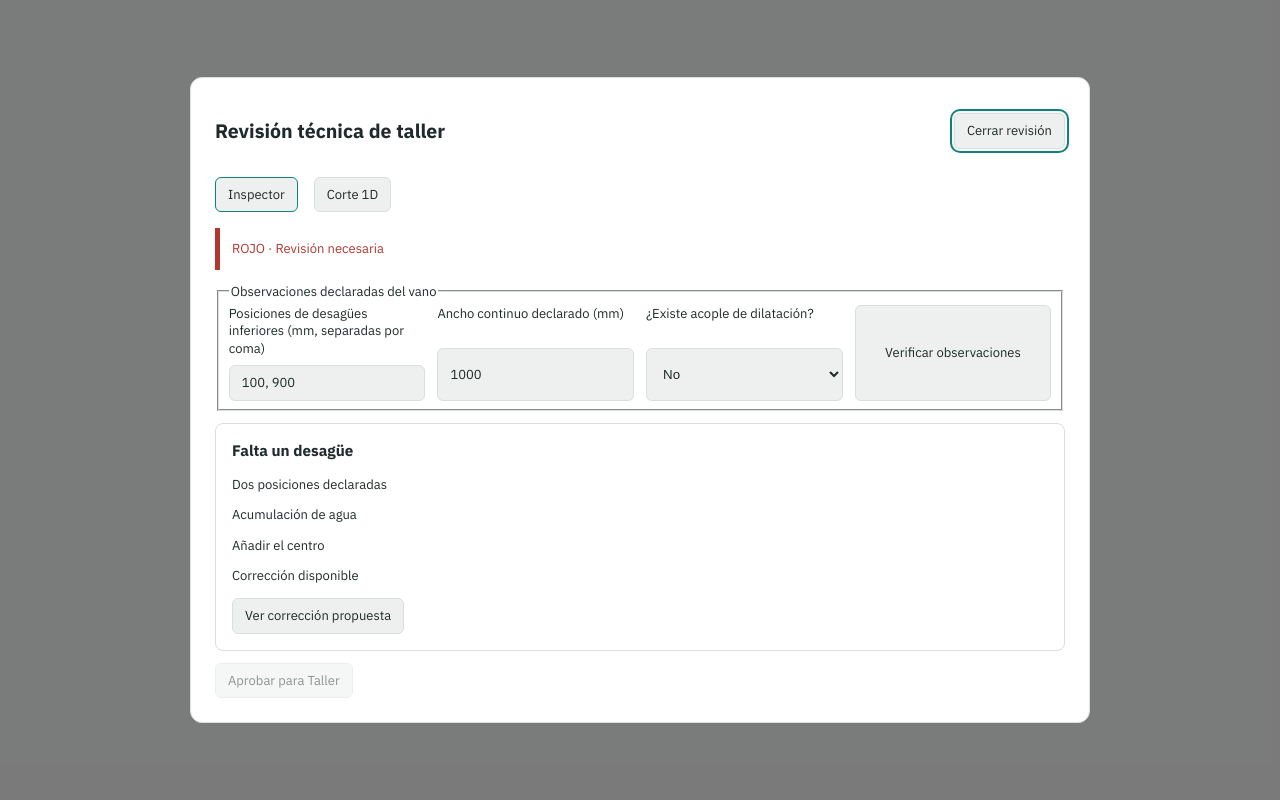
Scenario: SHOT-07 transactional modal › recomputes RED to RED from the new response
Click the button "Ver corrección propuesta".
click(318, 616)  # box [232, 598, 404, 634]
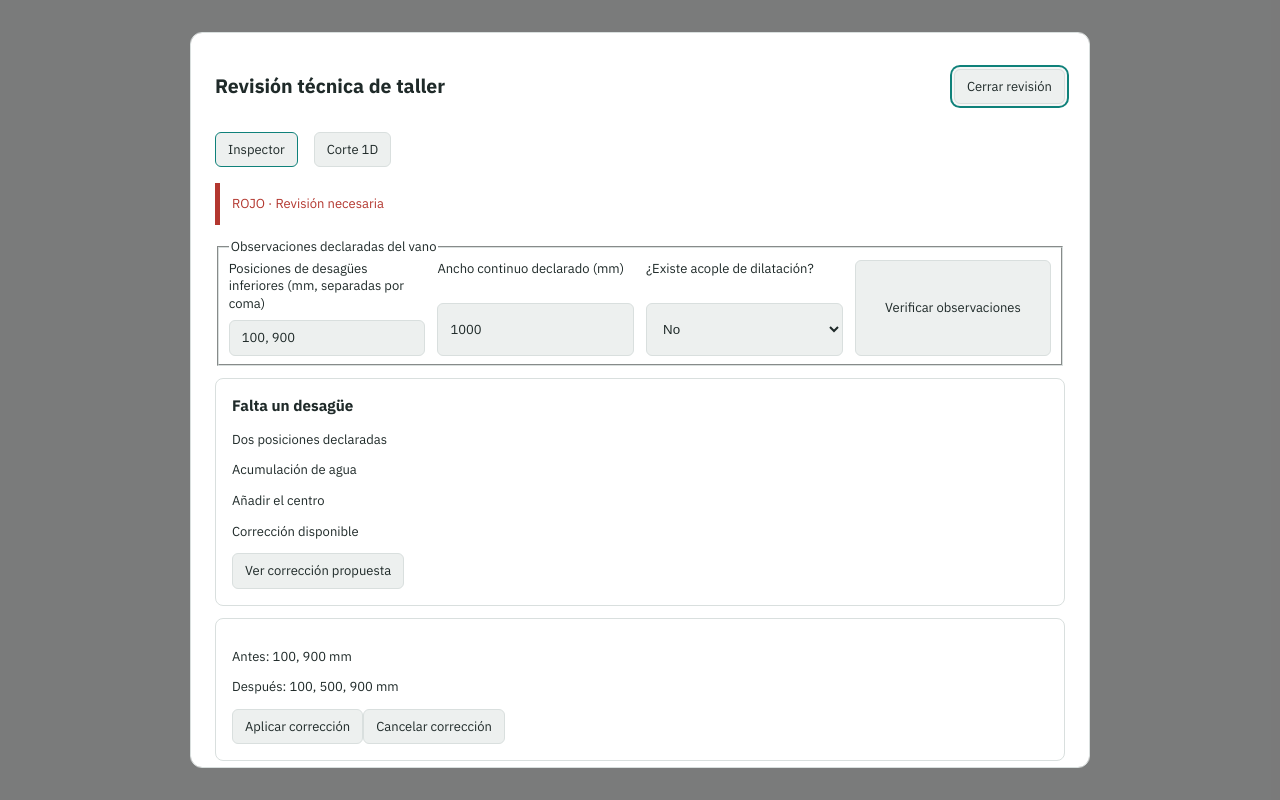
Expected: the text "Antes: 100, 900 mm" is shown, [232, 648, 352, 665]
Expected: the text "Después: 100, 500, 900 mm" is shown, [232, 678, 399, 695]
Click the button "Aplicar corrección".
click(298, 726)  # box [232, 709, 363, 744]
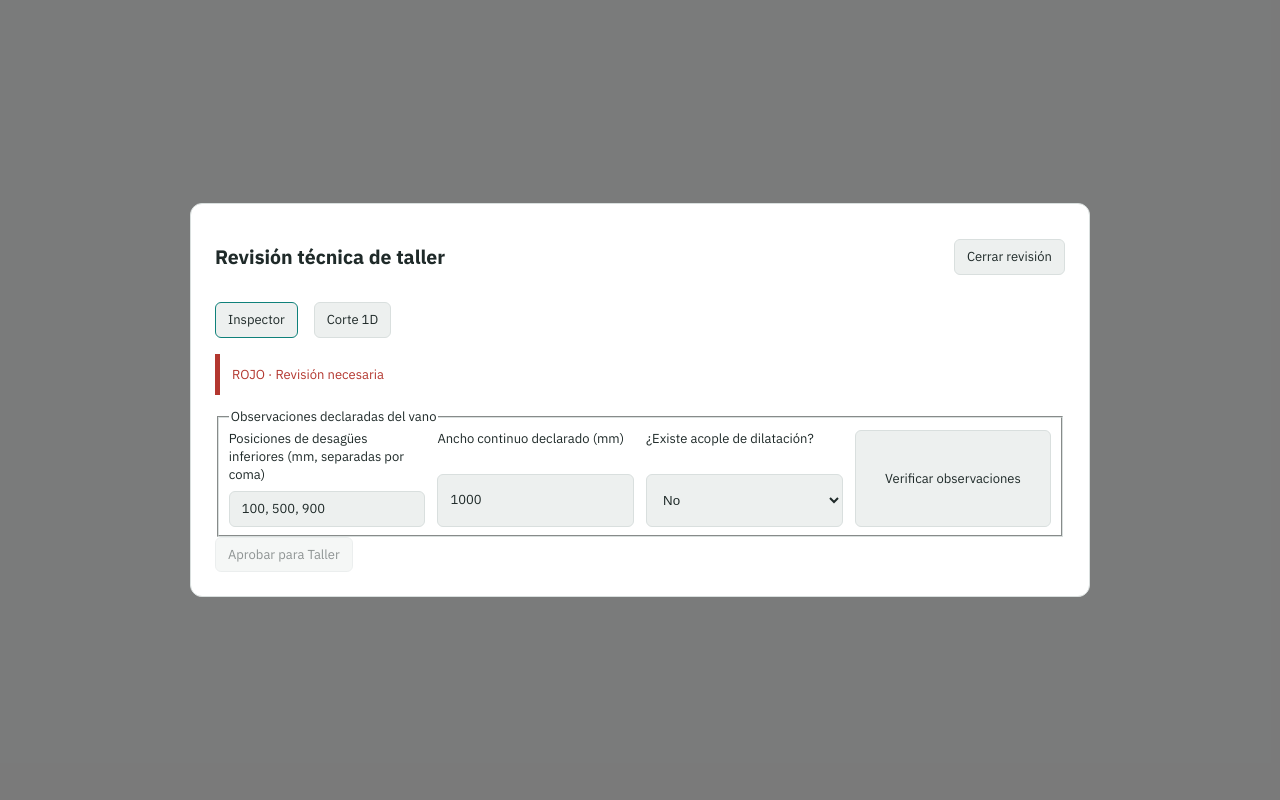
Expected: the button "Aprobar para Taller" is disabled, [215, 537, 353, 572]
